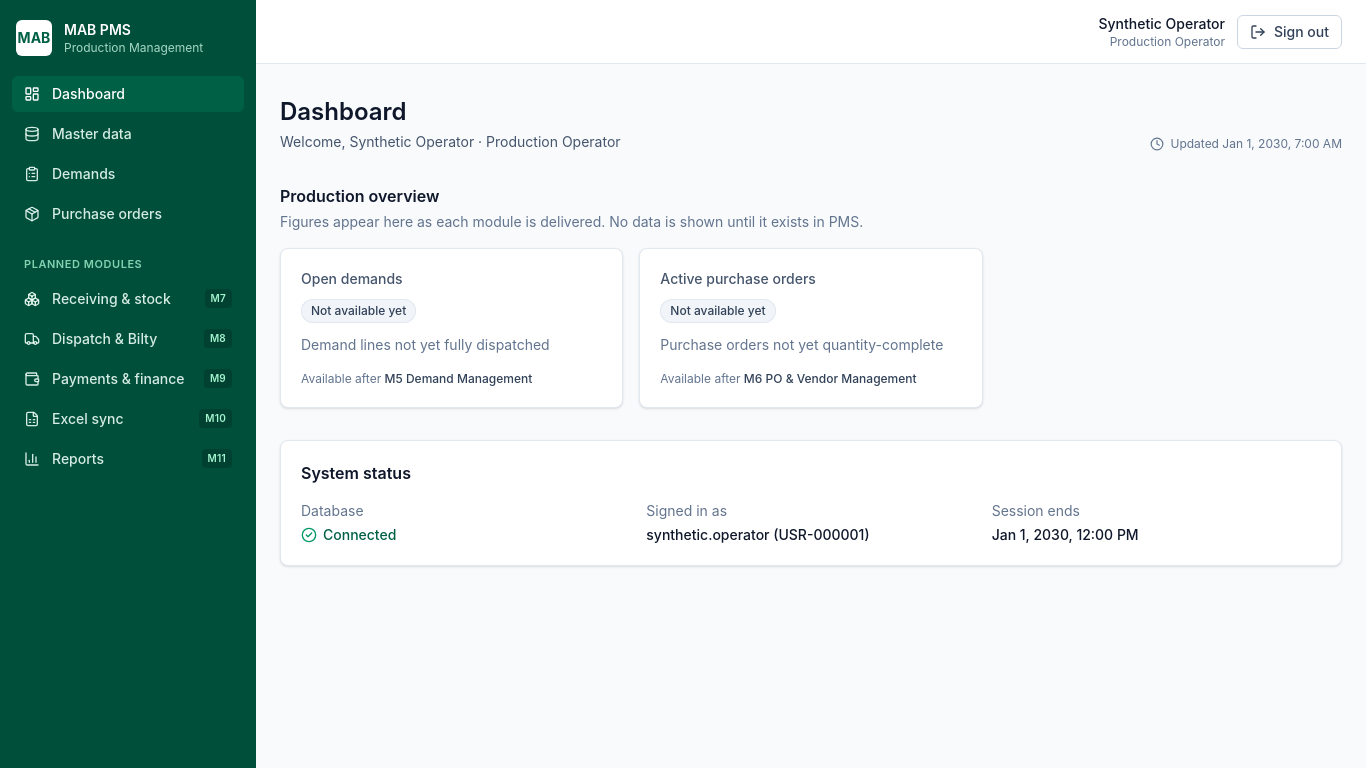
Test: Purchase orders list › is an active module in navigation and navigates to the list page
Click the link "Purchase orders". click: (93, 214)
box: [24,205,162,222]
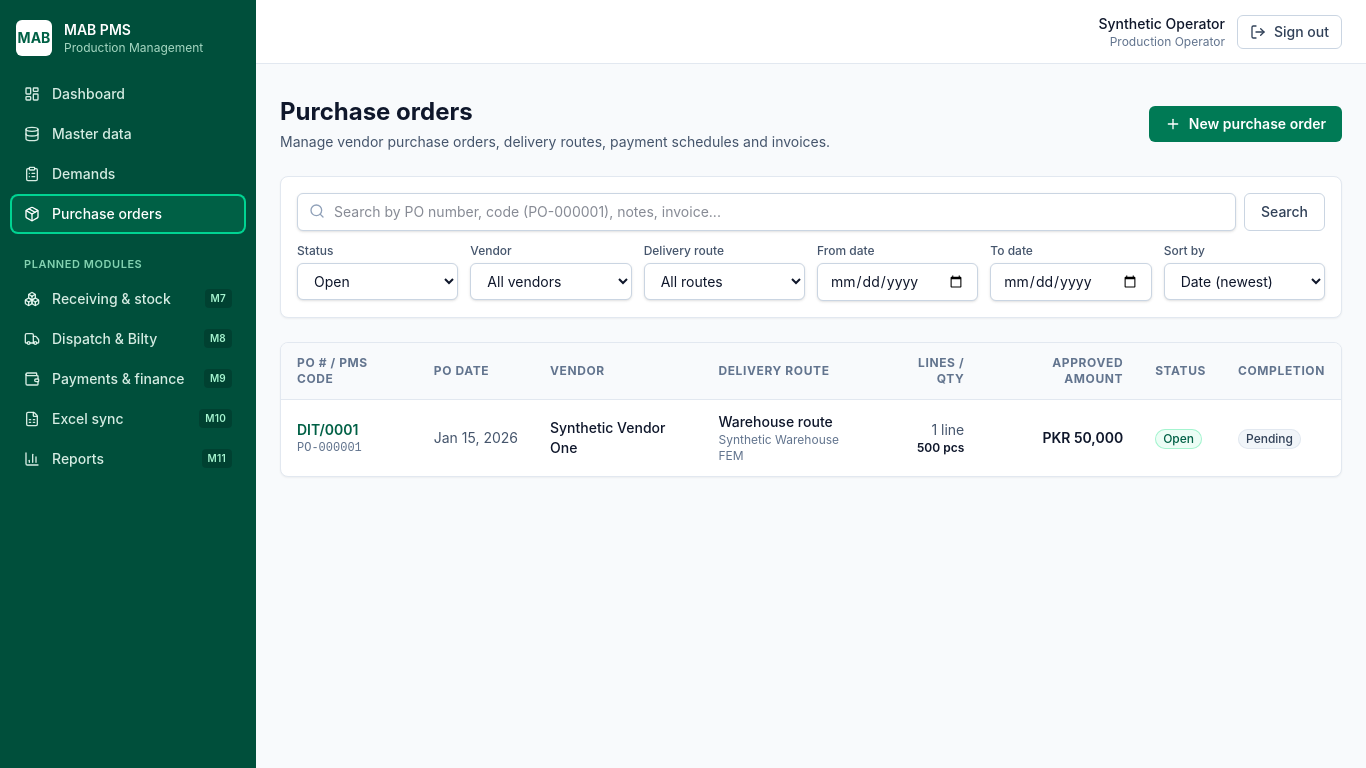
Check: the heading "Purchase orders" is shown, box [280,97,473,126]
Check: the link "DIT/0001" is shown, box [297,421,358,438]
